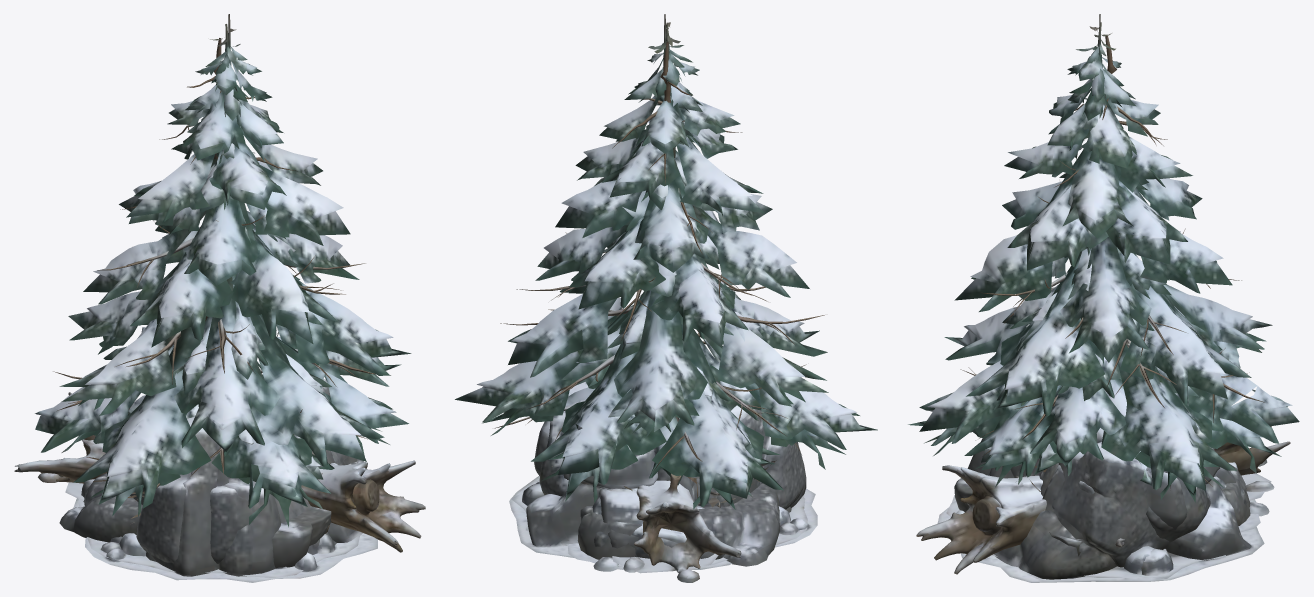
Rendered from nature.glb.
The picture shows the model from 3 angles, left to right: view 1: azimuth 30°, elevation 25°; view 2: azimuth 150°, elevation 25°; view 3: azimuth 270°, elevation 25°; orthographic projection. The views are drawn at different scales.
Visible parts, largest first — view 1: pine-wide, boulder-b, pine-tall, log, boulder-a, rock-slab, pine-dead; view 2: pine-wide, boulder-b, pine-tall, log, boulder-a, rock-slab, pine-dead; view 3: pine-wide, boulder-b, log, pine-tall, boulder-a, pine-dead, rock-slab.
Boxes of the visible parts, left/top/right/bottom form: pine-wide: left=35, top=24, right=411, bottom=527; boulder-b: left=73, top=379, right=377, bottom=582; pine-tall: left=127, top=14, right=334, bottom=479; log: left=14, top=392, right=425, bottom=552; boulder-a: left=78, top=446, right=360, bottom=577; rock-slab: left=59, top=459, right=363, bottom=568; pine-dead: left=53, top=38, right=390, bottom=500; pine-wide: left=455, top=24, right=877, bottom=509; boulder-b: left=509, top=382, right=817, bottom=571; pine-tall: left=548, top=14, right=780, bottom=485; log: left=612, top=473, right=741, bottom=582; boulder-a: left=511, top=400, right=807, bottom=569; rock-slab: left=577, top=483, right=779, bottom=566; pine-dead: left=494, top=42, right=824, bottom=471; pine-wide: left=908, top=22, right=1299, bottom=502; boulder-b: left=937, top=428, right=1269, bottom=582; log: left=916, top=426, right=1290, bottom=574; pine-tall: left=981, top=14, right=1218, bottom=486; boulder-a: left=946, top=462, right=1260, bottom=578; pine-dead: left=960, top=36, right=1264, bottom=488; rock-slab: left=954, top=464, right=1250, bottom=556.
Size of the model in its own units: 0.271 by 0.3862 by 0.272.
1 material, 1 textured.
